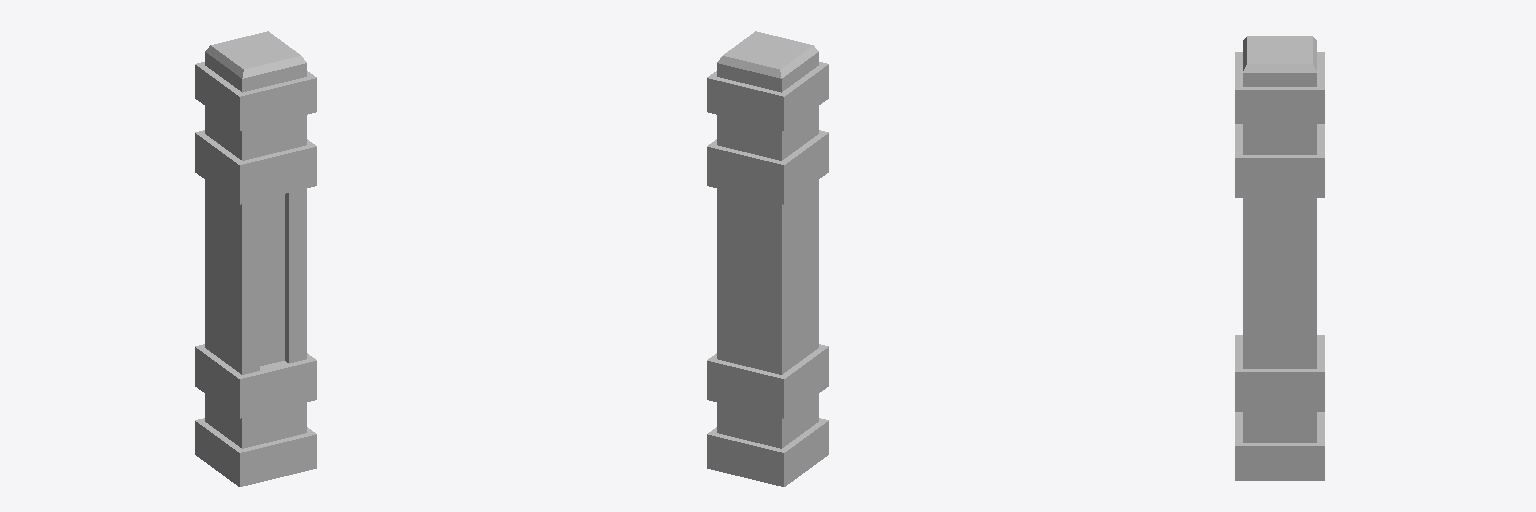
File: pillarSquare.obj
3 renders of one model, left to right at view 1: azimuth 30°, elevation 25°; view 2: azimuth 150°, elevation 25°; view 3: azimuth 270°, elevation 25°, orthographic.
Parts seen in each view (by area): view 1: pillarSquare; view 2: pillarSquare; view 3: pillarSquare.
Boxes of the visible parts, <box> form: pillarSquare: <box>195,31,316,486</box>; pillarSquare: <box>707,31,828,486</box>; pillarSquare: <box>1235,36,1324,480</box>.
Size of the model in its own units: 0.2062 by 1.04 by 0.2062.